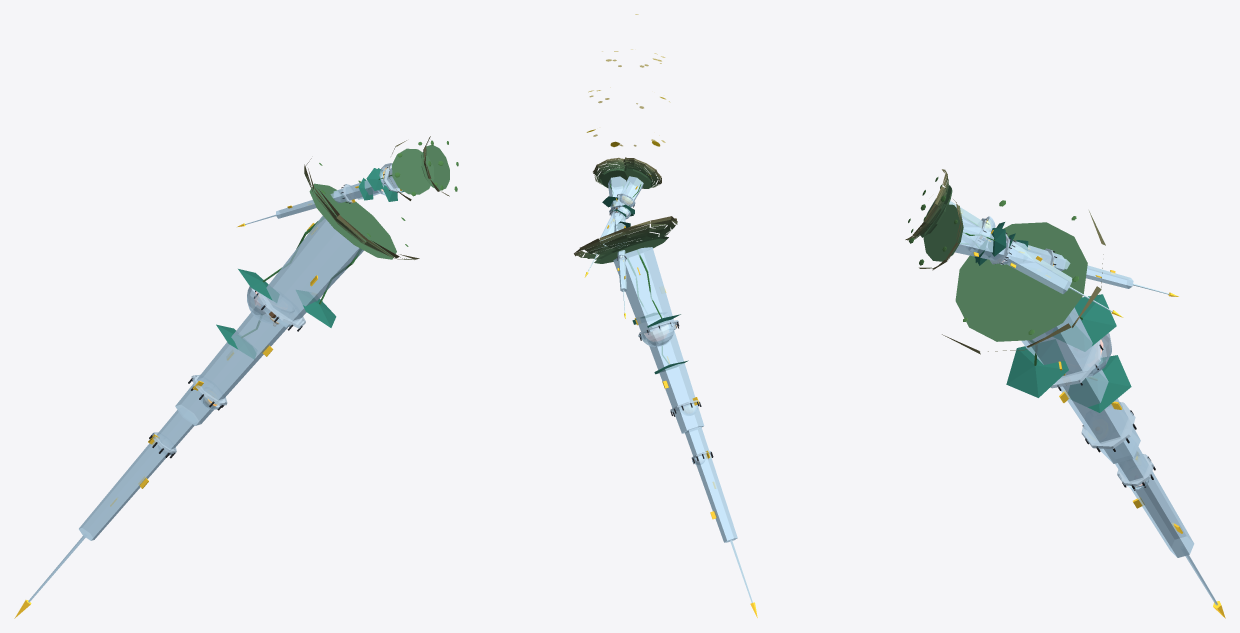
Rendered from moebiusCity.glb.
The picture shows the model from 3 angles, left to right: view 1: azimuth 30°, elevation 25°; view 2: azimuth 150°, elevation 25°; view 3: azimuth 270°, elevation 25°; orthographic projection. The views are drawn at different scales.
Parts seen in each view (by area): view 1: n37, n45, n53, moebius-hall-hill-terrace, moebius-hall-hill-terrace.002, moebius-green-hill-body, moebius-hall-hill-terrace.001; view 2: n37, n45, n53, moebius-green-hill-body, moebius-hall-hill-terrace, neon-dome-shell, moebius-green-hill-body.002, n412, moebius-green-hill-body.001, n217, n233, moebius-hall-hill-terrace.001 (+2 smaller); view 3: moebius-hall-hill-terrace, n45, n53, n37, n206, n214, n198, crystal-view-platform.001, moebius-hall-hill-terrace.001, n420, crystal-view-platform, n217 (+5 smaller).
Part boxes in pixels (x1,y1,x2,y2): n37: (258, 215, 363, 327); n45: (175, 305, 287, 425); n53: (79, 408, 196, 540); moebius-hall-hill-terrace: (309, 183, 396, 259); moebius-hall-hill-terrace.002: (392, 148, 434, 194); moebius-green-hill-body: (304, 158, 419, 259); moebius-hall-hill-terrace.001: (421, 145, 449, 190); n37: (613, 247, 676, 338); n45: (647, 330, 704, 433); n53: (685, 427, 737, 542); moebius-green-hill-body: (574, 216, 677, 259); moebius-hall-hill-terrace: (594, 236, 668, 263); neon-dome-shell: (639, 322, 673, 347); moebius-green-hill-body.002: (620, 157, 661, 187); n412: (615, 176, 643, 211); moebius-green-hill-body.001: (593, 157, 636, 186); n217: (608, 176, 626, 210); n233: (617, 248, 626, 291); moebius-hall-hill-terrace.001: (600, 168, 627, 188); moebius-hall-hill-terrace: (955, 222, 1087, 341); n45: (1060, 364, 1140, 463); n53: (1107, 437, 1194, 557); n37: (1021, 307, 1093, 378); n206: (1006, 339, 1068, 397); n214: (1068, 355, 1131, 412); n198: (1053, 294, 1116, 351); crystal-view-platform.001: (1081, 402, 1135, 448); moebius-hall-hill-terrace.001: (923, 204, 963, 261); n420: (999, 242, 1072, 293); crystal-view-platform: (1045, 334, 1100, 388); n217: (955, 222, 1006, 260).
Size of the model in its own units: 68.23 by 114 by 55.85.
